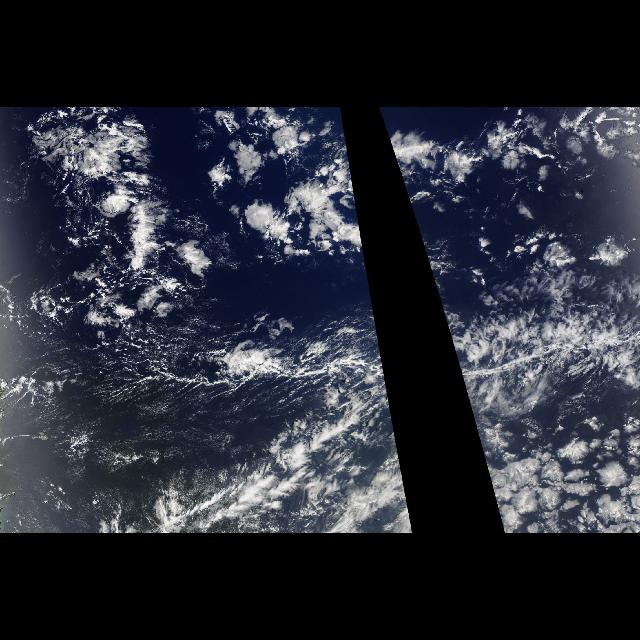Fish: (106, 302, 390, 400), (439, 302, 639, 400)
Flower: (66, 107, 378, 330), (378, 107, 536, 307), (474, 404, 638, 534), (353, 427, 413, 531)
Sugar: (4, 332, 226, 522)
